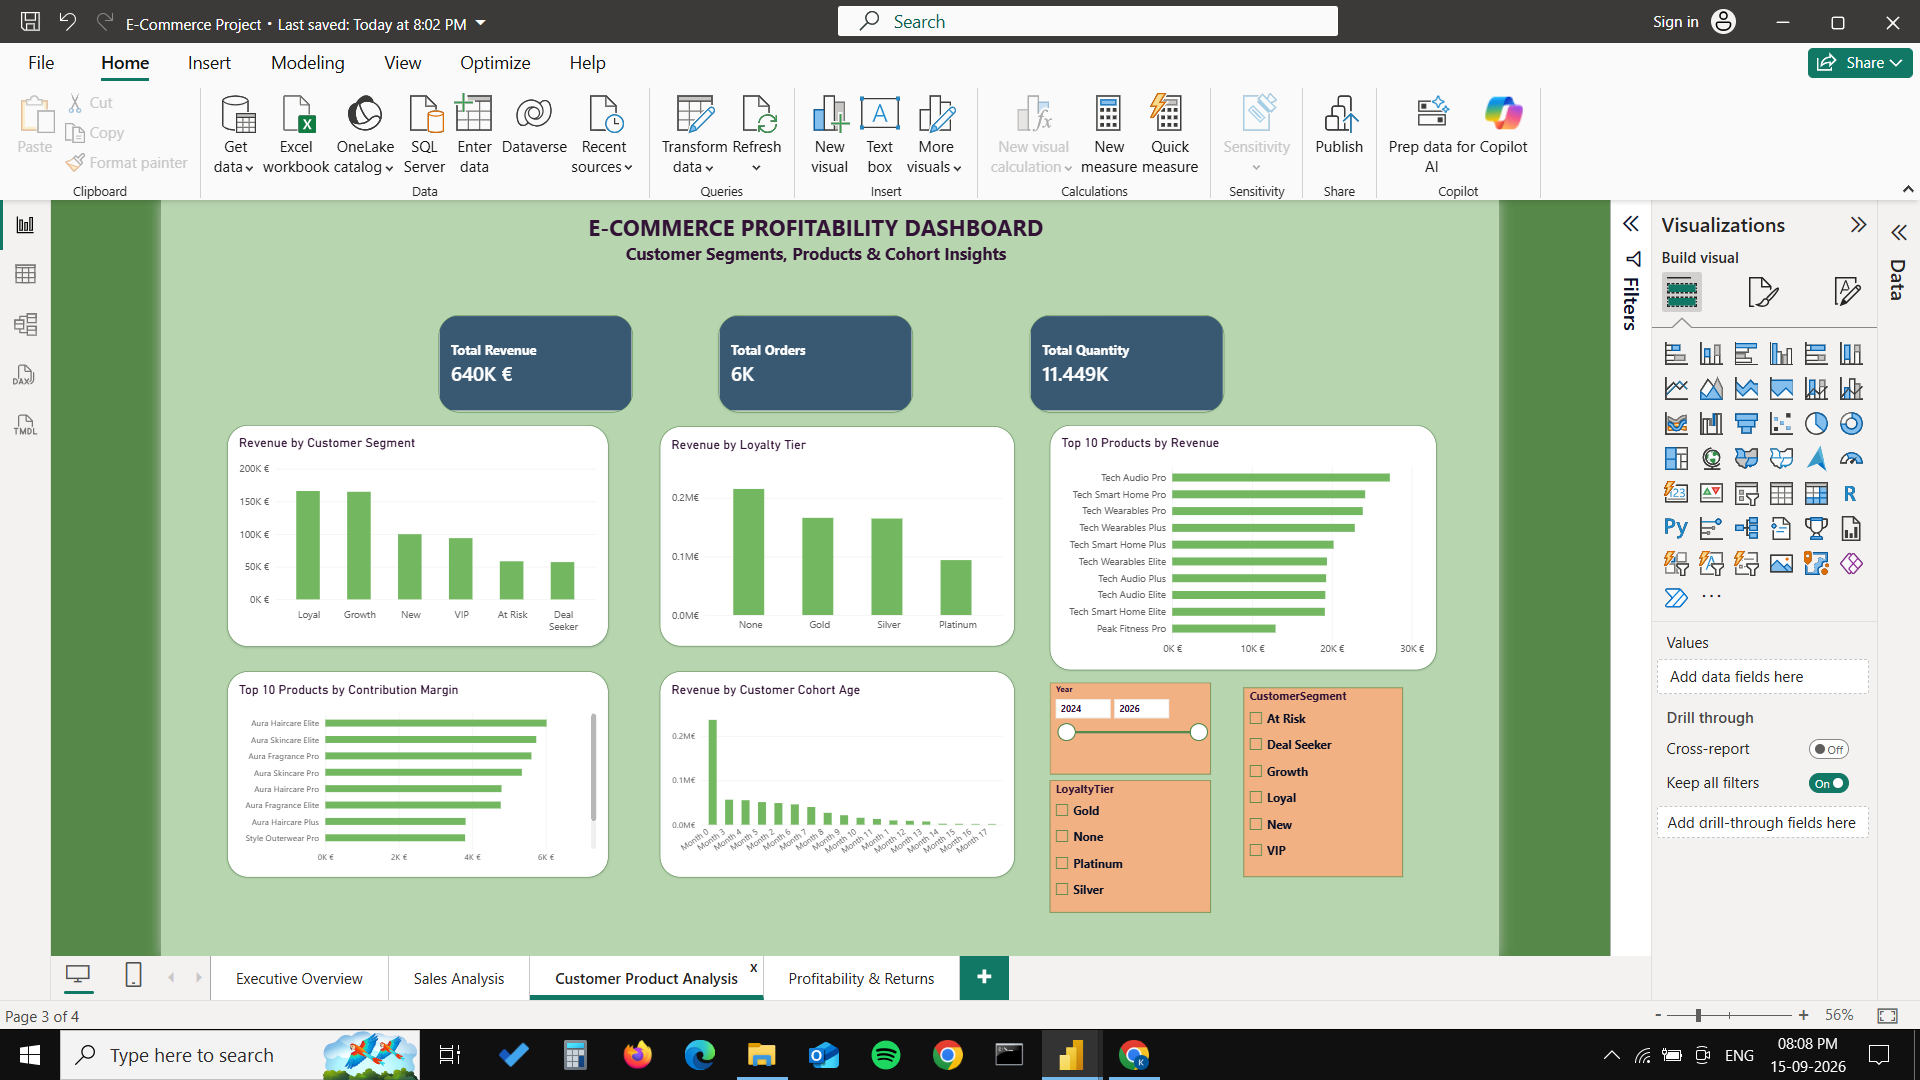

What the dashboard file says about the page in this screenshot:
{"tool":"powerbi","page":{"name":"Customer Product Analysis","canvas":[1920,1085],"ordinal":2},"visuals":[{"type":"cardVisual","fields":{"Data":["tblFactOrderLine.Total Revenue"]},"box":[398.5,165.7,279.3,139.6],"z":0},{"type":"cardVisual","fields":{"Data":["tblFactOrderLine.Total Orders"]},"box":[800.6,165.7,279.3,139.6],"z":1000},{"type":"cardVisual","fields":{"Data":["tblFactOrderLine.Total Quantity"]},"box":[1247.5,165.7,279.3,139.6],"z":2000},{"type":"clusteredColumnChart","title":"Revenue by Customer Segment","fields":{"Category":["tblDimCustomer.CustomerSegment"],"Y":["tblFactOrderLine.Total Revenue"]},"box":[95.1,322.9,547.2,318.1],"z":3000},{"type":"clusteredColumnChart","title":"Revenue by Loyalty Tier","fields":{"Category":["tblDimCustomer.LoyaltyTier"],"Y":["tblFactOrderLine.Total Revenue"]},"box":[715.8,324.7,509.5,315.7],"z":4000},{"type":"clusteredBarChart","title":"Top 10 Products by Revenue","fields":{"Category":["tblDimProduct.ProductName"],"Y":["tblFactOrderLine.Total Revenue"]},"box":[1275.4,322.1,554.9,351.9],"z":5000},{"type":"textbox","box":[523.2,18.6,832.3,124.7],"z":6000},{"type":"clusteredBarChart","title":"Top 10 Products by Contribution Margin","fields":{"Category":["tblDimProduct.ProductName"],"Y":["tblFactOrderLine.Contribution Margin"]},"box":[95.1,676.3,547.2,296],"z":7000},{"type":"clusteredColumnChart","title":"Revenue by Customer Cohort Age","fields":{"Category":["tblDimCohortAge.CohortAgeLabel"],"Y":["tblFactOrderLine.Total Revenue"]},"box":[715.8,676.3,509.5,296],"z":8000},{"type":"slicer","fields":{"Values":["tblDimDate.Year"]},"box":[1275.4,692.6,230.9,132.2],"z":9000},{"type":"slicer","fields":{"Values":["tblDimCustomer.CustomerSegment"]},"box":[1552.9,700.1,229,271.8],"z":10000},{"type":"slicer","fields":{"Values":["tblDimCustomer.LoyaltyTier"]},"box":[1275.5,832.4,231.4,190.2],"z":11000}]}

Visuals, with their boxes on the page's 1920x1085 design canvas (x1, y1, x2, y2). These are canvas units, not pixel positions in the 1920x1080 screenshot, which may show the page scaled, cropped or inside an application window:
cardVisual - tblFactOrderLine.Total Revenue: l=398, t=166, r=678, b=305
cardVisual - tblFactOrderLine.Total Orders: l=801, t=166, r=1080, b=305
cardVisual - tblFactOrderLine.Total Quantity: l=1248, t=166, r=1527, b=305
"Revenue by Customer Segment" clusteredColumnChart: l=95, t=323, r=642, b=641
"Revenue by Loyalty Tier" clusteredColumnChart: l=716, t=325, r=1225, b=640
"Top 10 Products by Revenue" clusteredBarChart: l=1275, t=322, r=1830, b=674
textbox: l=523, t=19, r=1356, b=143
"Top 10 Products by Contribution Margin" clusteredBarChart: l=95, t=676, r=642, b=972
"Revenue by Customer Cohort Age" clusteredColumnChart: l=716, t=676, r=1225, b=972
slicer - tblDimDate.Year: l=1275, t=693, r=1506, b=825
slicer - tblDimCustomer.CustomerSegment: l=1553, t=700, r=1782, b=972
slicer - tblDimCustomer.LoyaltyTier: l=1276, t=832, r=1507, b=1023
